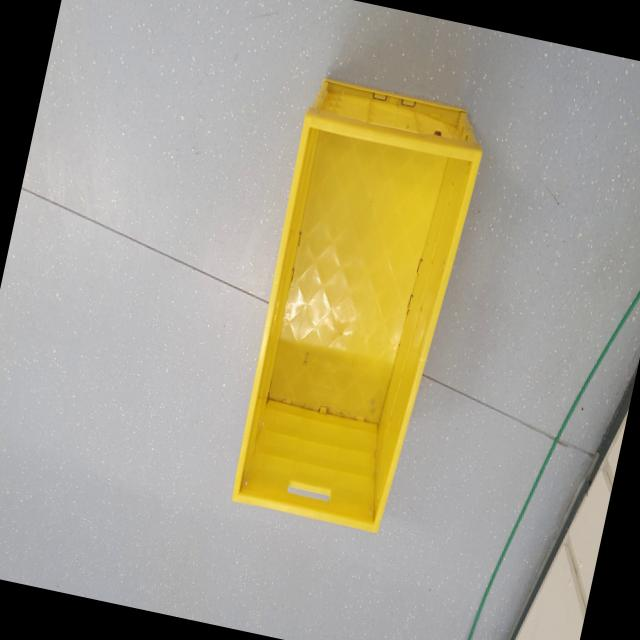box: (212, 65, 502, 558)
